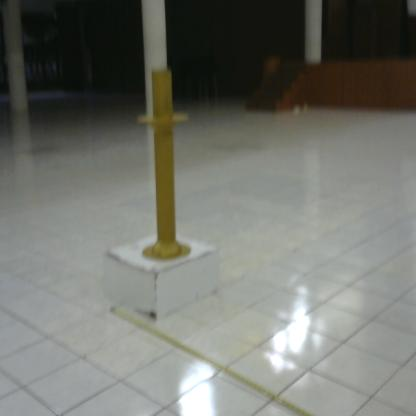pole: (128, 60, 204, 272)
